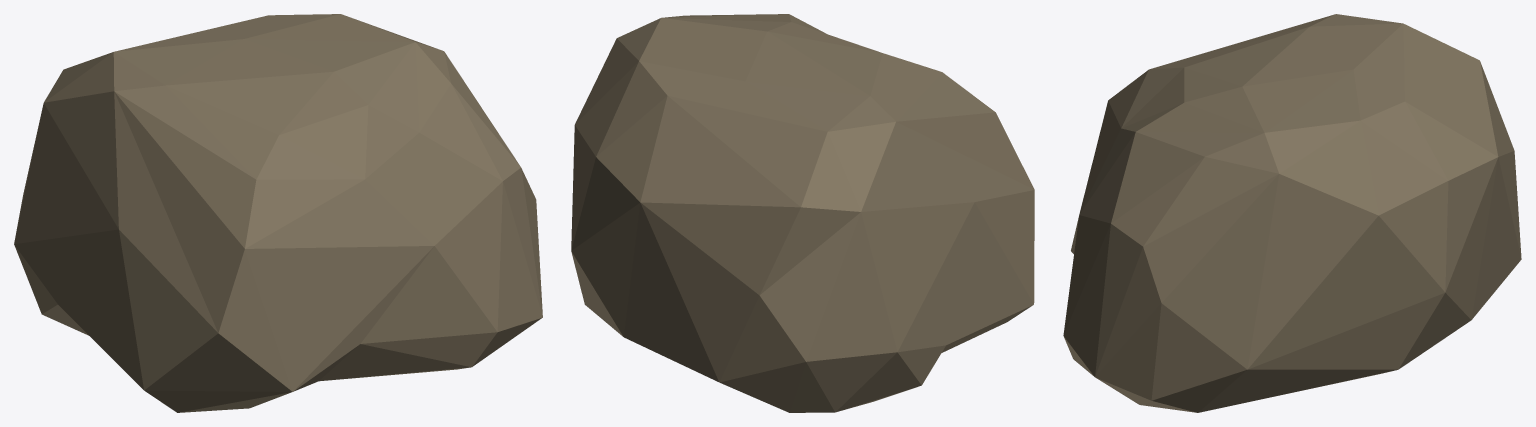
File: rock17.fbx
The picture shows the model from 3 angles, left to right: view 1: azimuth 30°, elevation 25°; view 2: azimuth 150°, elevation 25°; view 3: azimuth 270°, elevation 25°; orthographic projection. The views are drawn at different scales.
Parts seen in each view (by area): view 1: Rock17; view 2: Rock17; view 3: Rock17.
Boxes of the visible parts, <box> form: Rock17: <box>14,14,542,412</box>; Rock17: <box>571,14,1034,412</box>; Rock17: <box>1063,14,1521,412</box>.
Bounding box in the file's own units: 2.35 × 1.49 × 2.33.
